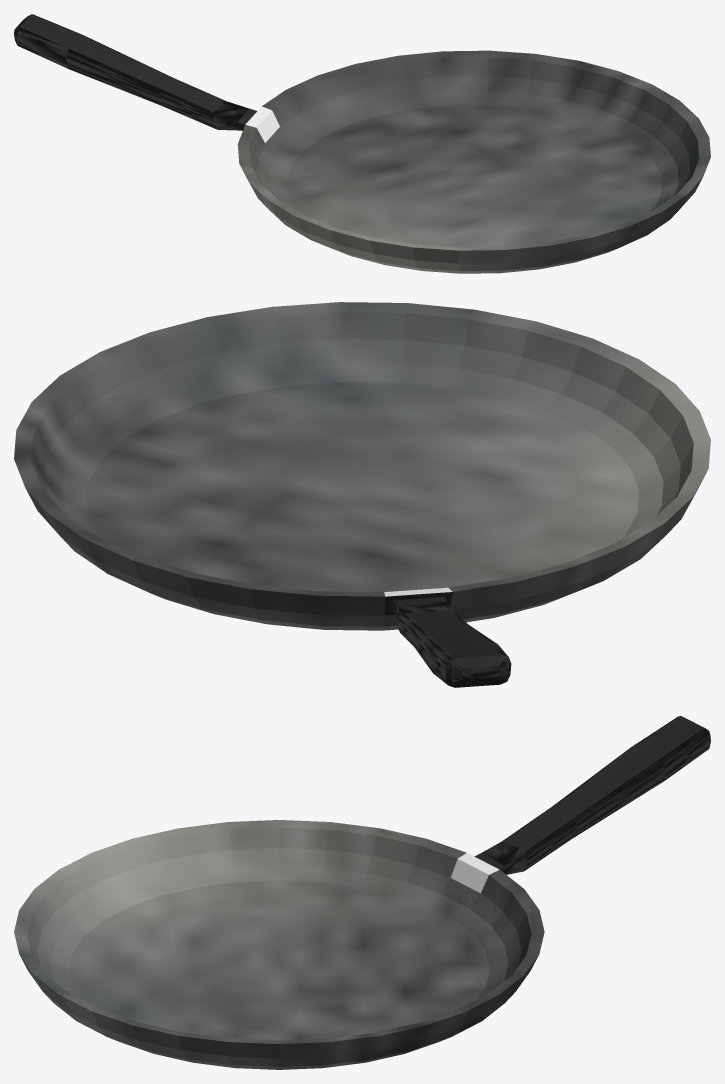
Rendered from low-poly-kitchen-assets-254d6d.glb.
3 views of the same model, one above another, from view 1: azimuth 30°, elevation 25°; view 2: azimuth 150°, elevation 25°; view 3: azimuth 270°, elevation 25° (orthographic). The views are drawn at different scales.
Visible parts, largest first — view 1: PropMesh; view 2: PropMesh; view 3: PropMesh.
Boxes of the visible parts, x1,y1,x2,y2 form: PropMesh: [14, 14, 710, 273]; PropMesh: [14, 302, 710, 687]; PropMesh: [14, 716, 710, 1069].
Size of the model in its own units: 0.404 by 0.0772 by 0.45.
1 material, 1 textured.
